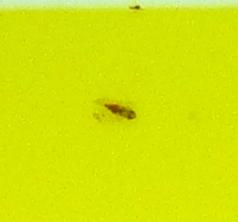Hemiptera: (100, 100, 138, 122)
